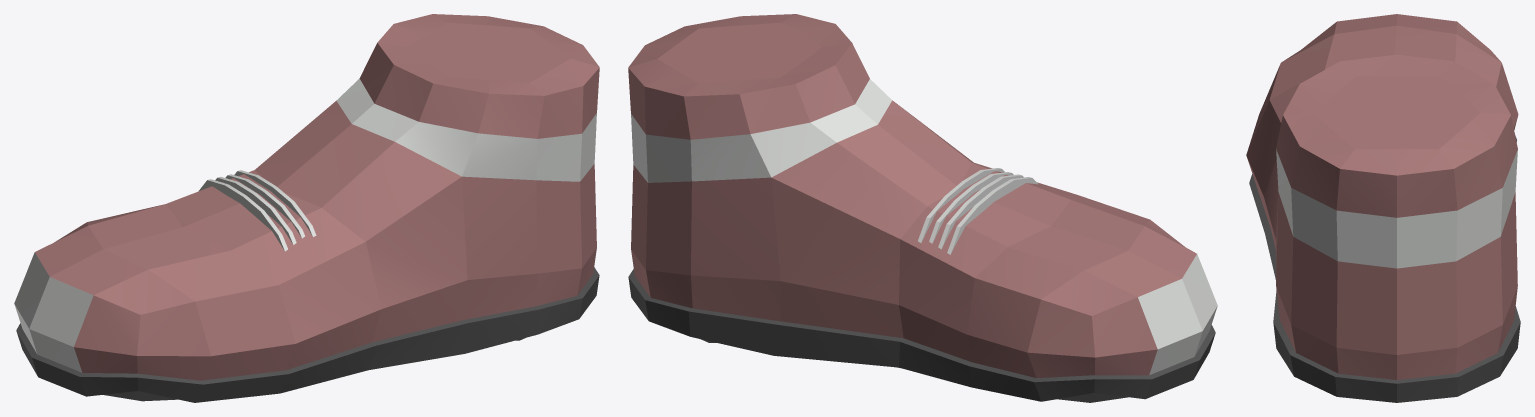
File: LeftShoe.fbx
The picture shows the model from 3 angles, left to right: view 1: azimuth 30°, elevation 25°; view 2: azimuth 150°, elevation 25°; view 3: azimuth 270°, elevation 25°; orthographic projection.
Parts seen in each view (by area): view 1: polySurface20; view 2: polySurface20; view 3: polySurface20.
Boxes of the visible parts, x1,y1,x2,y2 form: polySurface20: (14, 14, 599, 402); polySurface20: (628, 14, 1217, 402); polySurface20: (1246, 14, 1520, 402).
Bounding box in the file's own units: 4.49 × 2.06 × 1.89.
